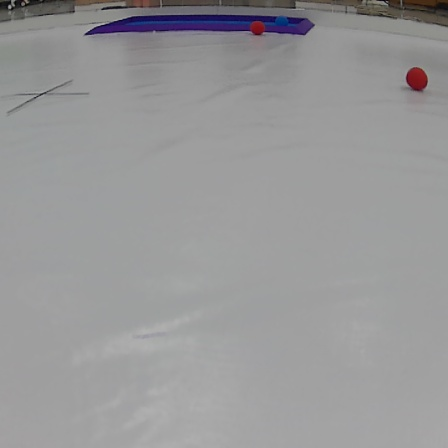blue: (272, 14, 292, 28)
blue_aim: (82, 15, 322, 37)
red: (404, 68, 431, 92), (252, 21, 266, 35)
